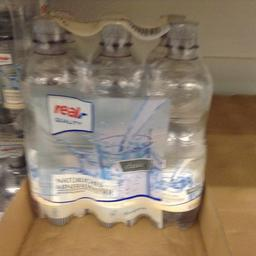water: (18, 12, 87, 226), (75, 14, 144, 226), (142, 20, 210, 230)
